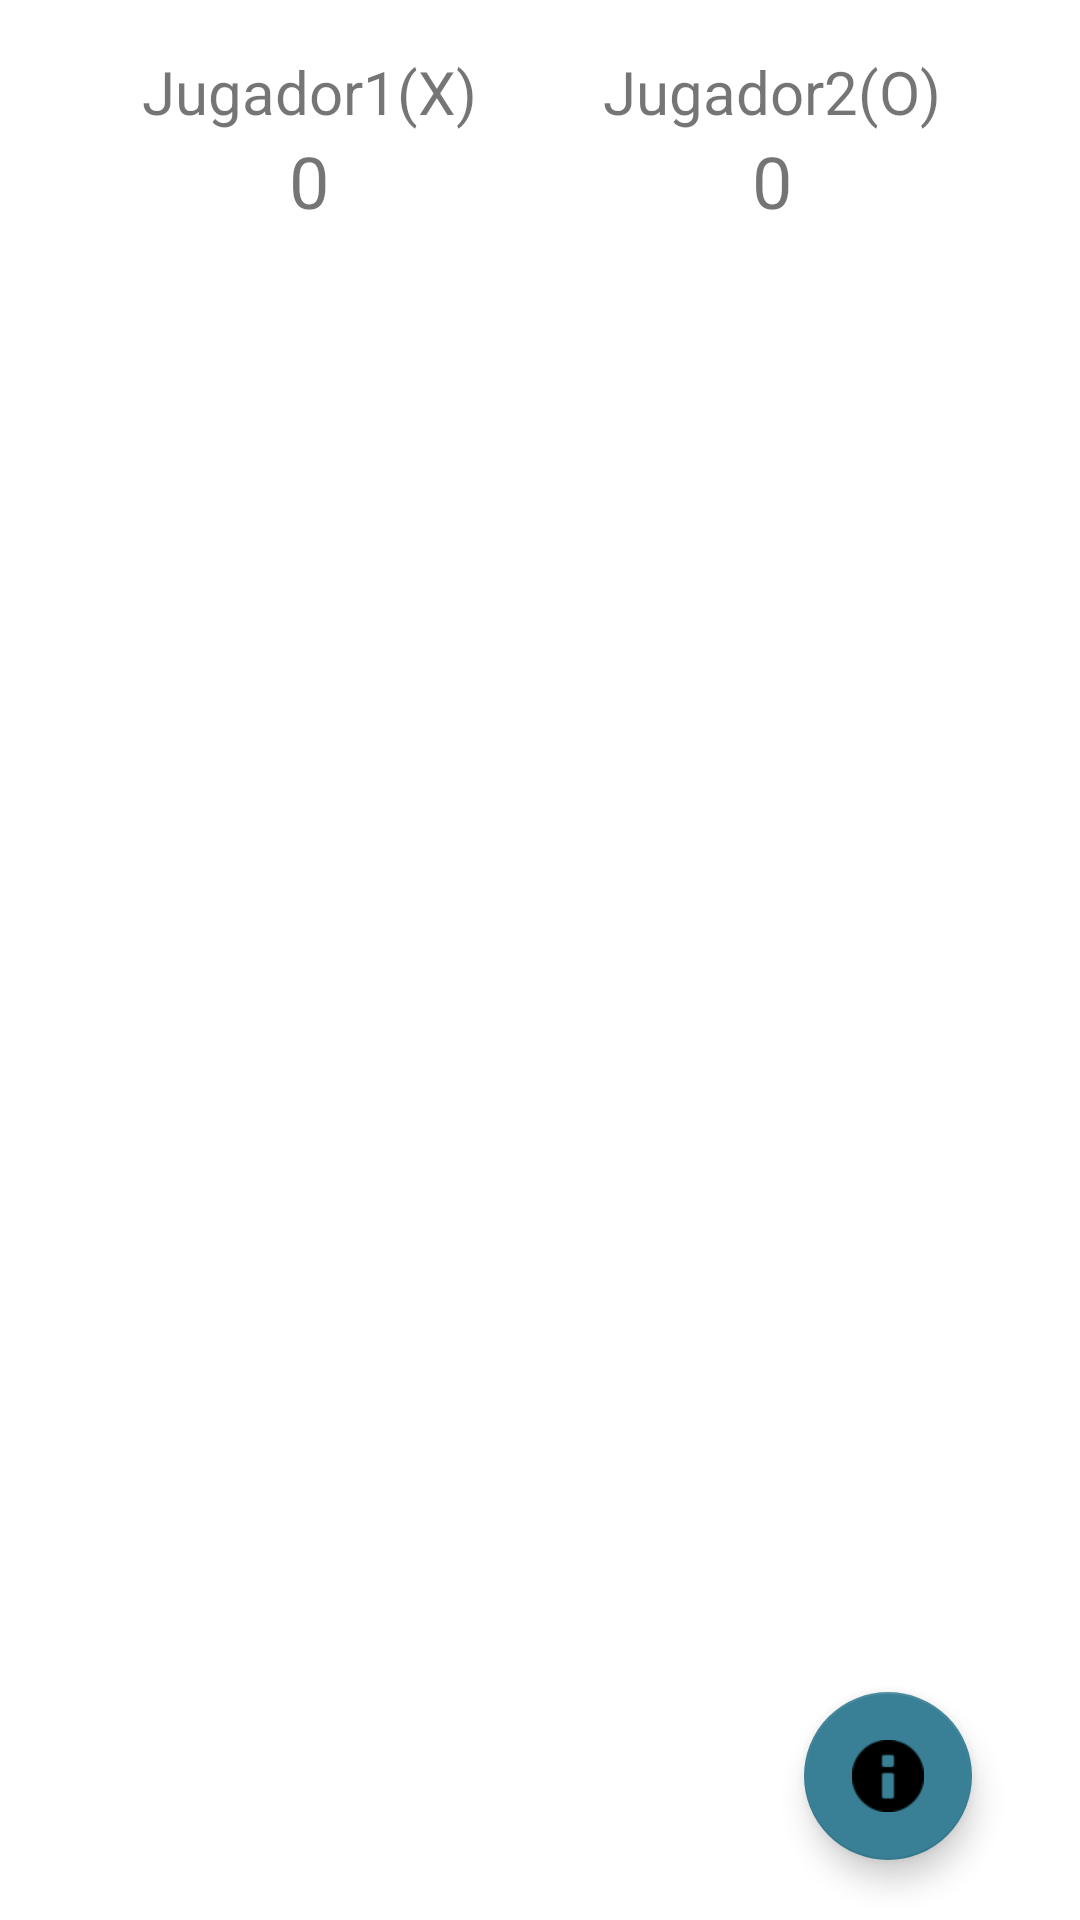

Icons on this 1080x1920 Android screen, each with its box as [x1, y1, x2, y2]:
info: [804, 1692, 972, 1860]
